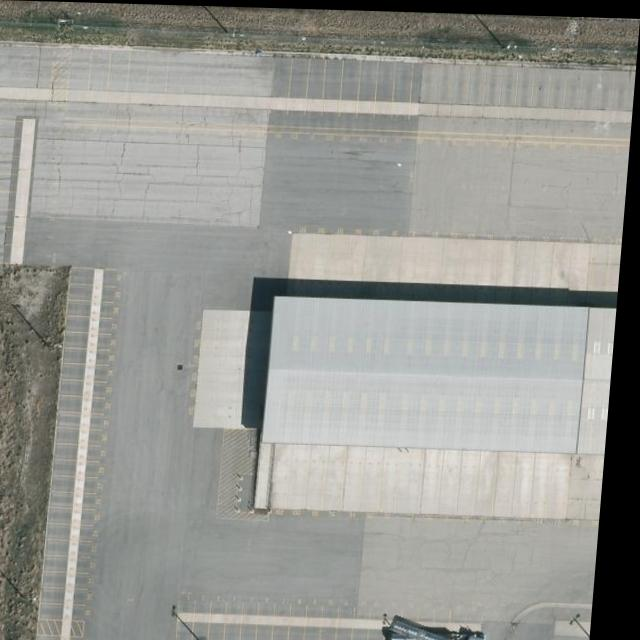vehicle: (398, 619, 498, 640)
